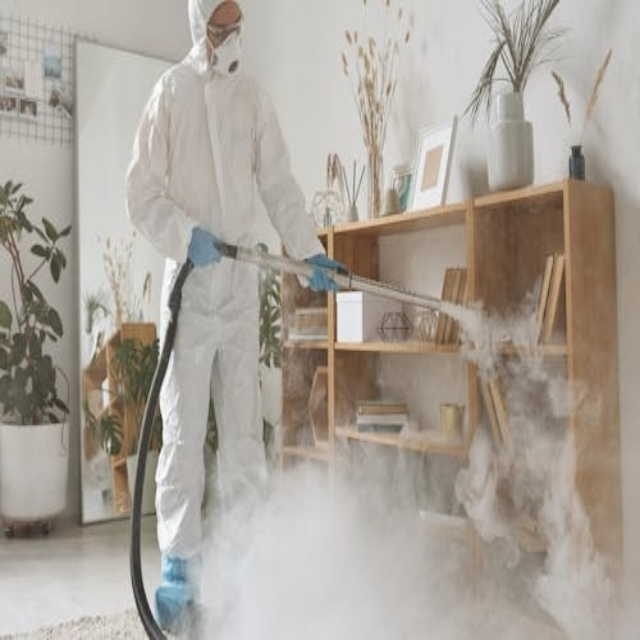Gafas: (206, 18, 242, 44)
Guantes: (303, 253, 350, 293), (188, 225, 225, 269)
Mascara: (208, 28, 243, 76)
